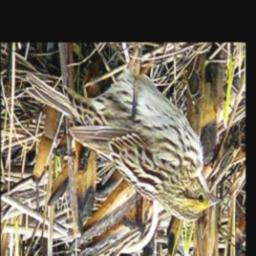Sparrow: (23, 48, 225, 221)
